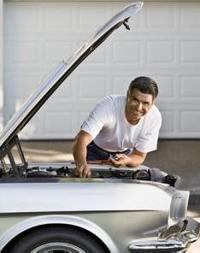person without safety: (76, 75, 166, 174)
